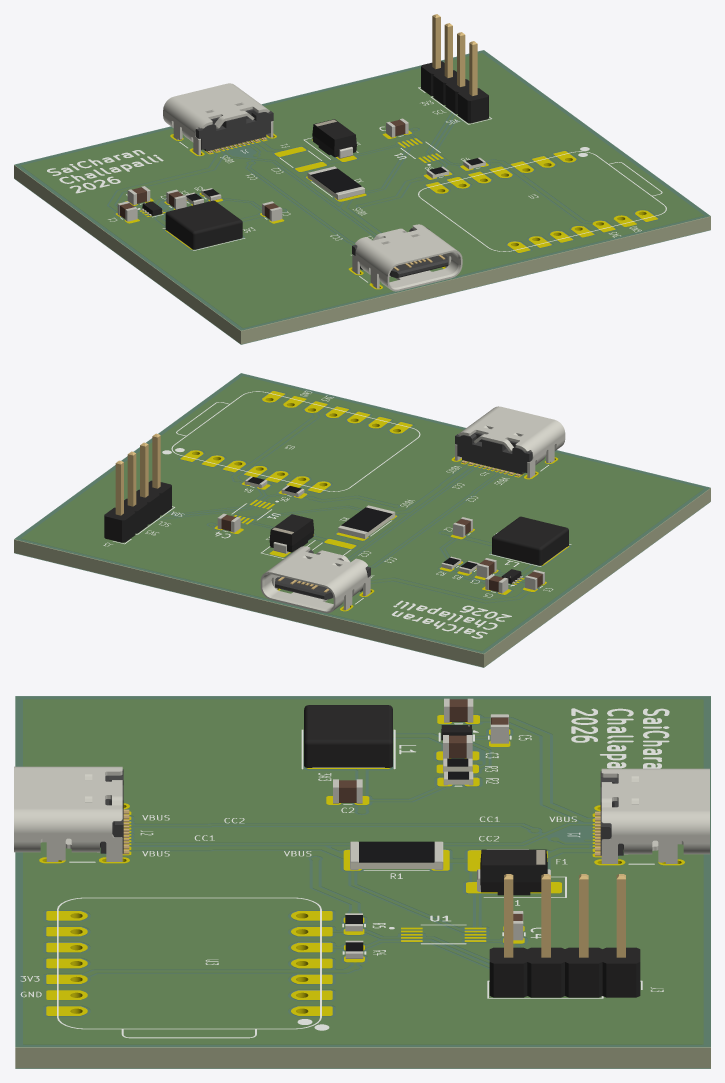
The model's file is powersense.glb.
3 renders of one model, top to bottom at view 1: azimuth 30°, elevation 25°; view 2: azimuth 150°, elevation 25°; view 3: azimuth 270°, elevation 25°, orthographic. The views are drawn at different scales.
Parts seen in each view (by area): view 1: =>[0:1:1:26], =>[0:1:1:24], =>[0:1:1:28], =>[0:1:1:5] (×2), =>[0:1:1:21], =>[0:1:1:25], =>[0:1:1:13], =>[0:1:1:9], =>[0:1:1:23], =>[0:1:1:27]; view 2: =>[0:1:1:26], =>[0:1:1:24], =>[0:1:1:28], =>[0:1:1:5] (×2), =>[0:1:1:21], =>[0:1:1:25], =>[0:1:1:13], =>[0:1:1:9], =>[0:1:1:23], =>[0:1:1:27]; view 3: =>[0:1:1:26], =>[0:1:1:24], =>[0:1:1:28], =>[0:1:1:5] (×2), =>[0:1:1:21], =>[0:1:1:25], =>[0:1:1:13], =>[0:1:1:9], =>[0:1:1:23], =>[0:1:1:7] (×3), =>[0:1:1:27].
Boxes of the visible parts, bbox=[...] form: =>[0:1:1:26]: bbox=[14, 50, 710, 330]; =>[0:1:1:24]: bbox=[22, 53, 703, 327]; =>[0:1:1:28]: bbox=[14, 51, 710, 344]; =>[0:1:1:5] (×2): bbox=[163, 83, 462, 291]; =>[0:1:1:21]: bbox=[421, 14, 488, 123]; =>[0:1:1:25]: bbox=[47, 87, 666, 282]; =>[0:1:1:13]: bbox=[165, 200, 242, 249]; =>[0:1:1:9]: bbox=[312, 119, 356, 158]; =>[0:1:1:23]: bbox=[307, 166, 364, 199]; =>[0:1:1:27]: bbox=[14, 178, 710, 344]; =>[0:1:1:26]: bbox=[14, 373, 710, 653]; =>[0:1:1:24]: bbox=[21, 376, 702, 650]; =>[0:1:1:28]: bbox=[14, 374, 710, 667]; =>[0:1:1:5] (×2): bbox=[260, 406, 565, 613]; =>[0:1:1:21]: bbox=[104, 433, 171, 542]; =>[0:1:1:25]: bbox=[103, 390, 571, 638]; =>[0:1:1:13]: bbox=[492, 516, 568, 565]; =>[0:1:1:9]: bbox=[269, 514, 314, 553]; =>[0:1:1:23]: bbox=[338, 505, 395, 538]; =>[0:1:1:27]: bbox=[14, 501, 710, 667]; =>[0:1:1:26]: bbox=[15, 696, 710, 1047]; =>[0:1:1:24]: bbox=[23, 700, 702, 1044]; =>[0:1:1:28]: bbox=[15, 697, 710, 1068]; =>[0:1:1:5] (×2): bbox=[14, 766, 709, 863]; =>[0:1:1:21]: bbox=[489, 874, 640, 997]; =>[0:1:1:25]: bbox=[20, 708, 669, 1038]; =>[0:1:1:13]: bbox=[304, 705, 392, 767]; =>[0:1:1:9]: bbox=[477, 849, 550, 895]; =>[0:1:1:23]: bbox=[350, 841, 443, 869]; =>[0:1:1:7] (×3): bbox=[333, 698, 473, 803]; =>[0:1:1:27]: bbox=[15, 1068, 710, 1068].
Bounding box in the file's own units: 0.0561 × 0.0115 × 0.0471.
